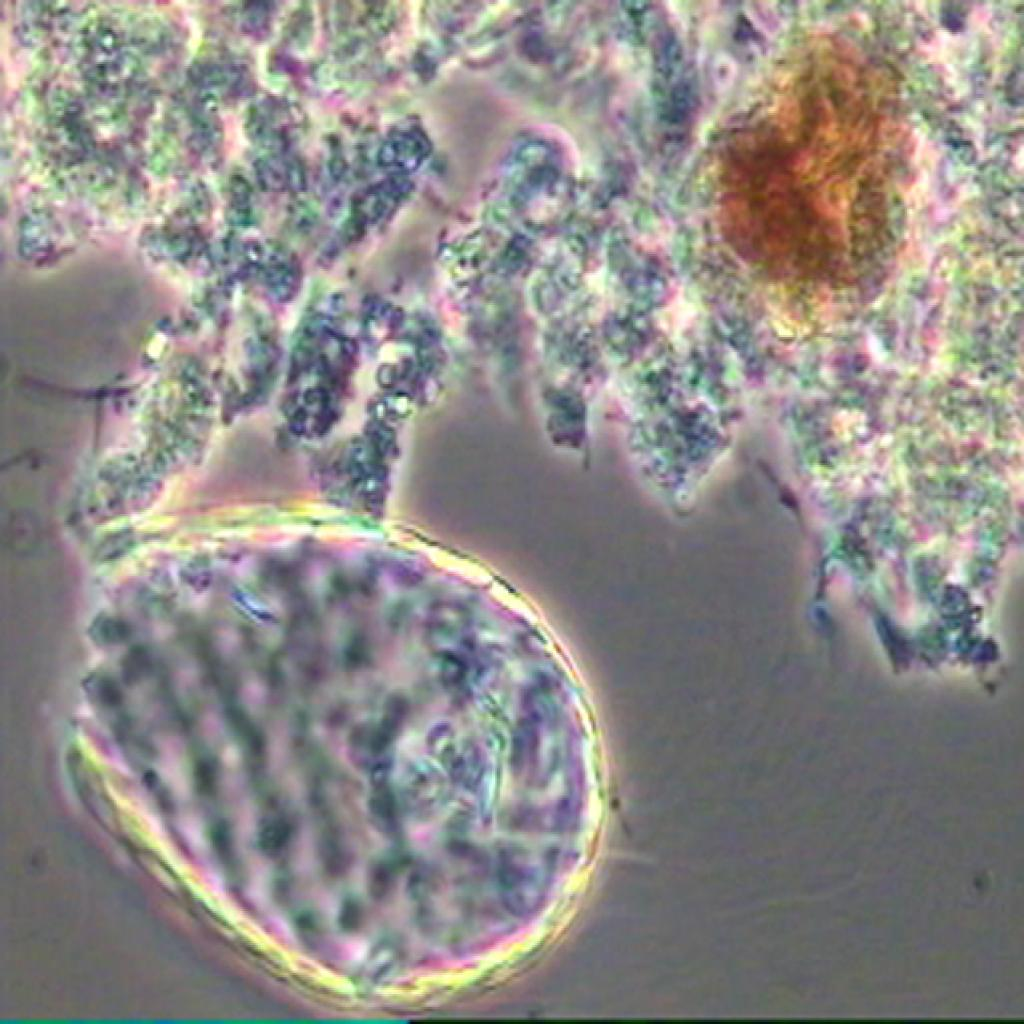Euglypha: (49, 494, 645, 1016)
